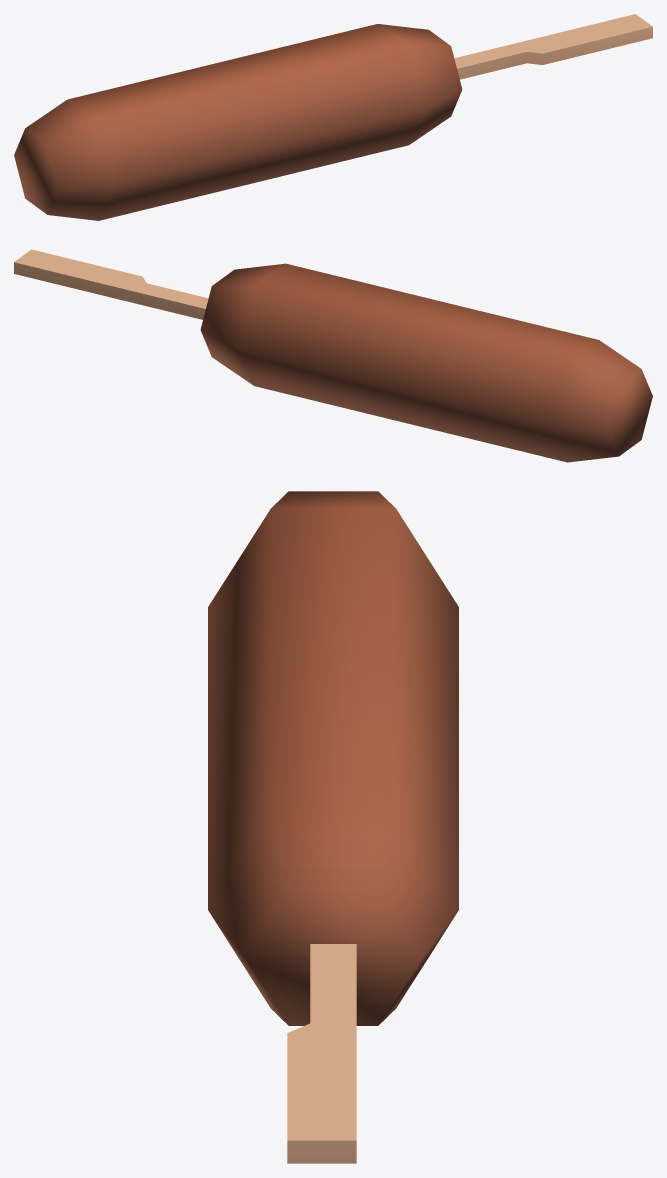
The model's file is food.corn_dog.glb.
The picture shows the model from 3 angles, top to bottom: view 1: azimuth 30°, elevation 25°; view 2: azimuth 150°, elevation 25°; view 3: azimuth 270°, elevation 25°; orthographic projection. The views are drawn at different scales.
Parts seen in each view (by area): view 1: dog, corn-dog; view 2: dog, corn-dog; view 3: dog, corn-dog.
Part boxes in pixels (x1,y1,x2,y2): dog: [14, 24, 462, 220]; corn-dog: [454, 14, 652, 79]; dog: [200, 263, 652, 462]; corn-dog: [14, 249, 208, 319]; dog: [208, 491, 458, 1025]; corn-dog: [287, 944, 356, 1163].
Bounding box in the file's own units: 0.1795 × 0.0279 × 0.0322.
1 material, 1 textured.
